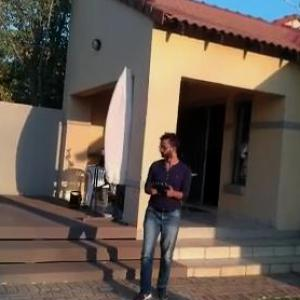follow: (133, 130, 192, 299)
